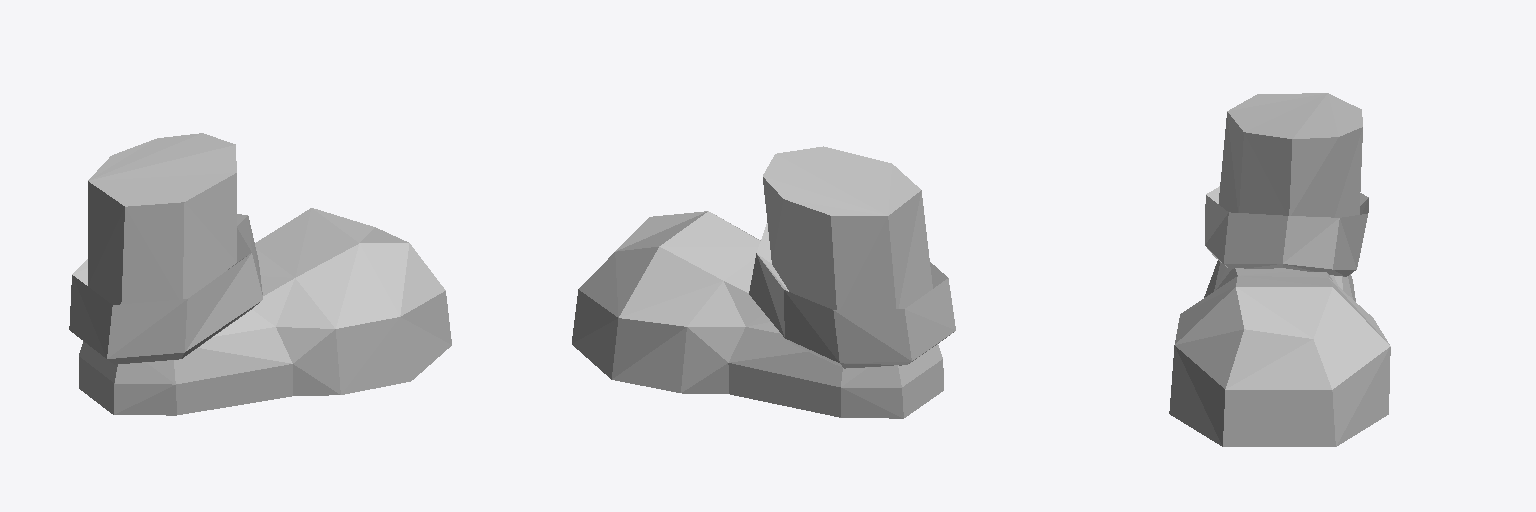
File: pie_der.obj
3 views of the same model, side by side, from view 1: azimuth 30°, elevation 25°; view 2: azimuth 150°, elevation 25°; view 3: azimuth 270°, elevation 25° (orthographic).
Visible parts, largest first — view 1: Material_#95.005; view 2: Material_#95.005; view 3: Material_#95.005.
Part boxes in pixels (x1,y1,x2,y2): Material_#95.005: (69,133,451,415); Material_#95.005: (572,146,955,418); Material_#95.005: (1169,93,1390,446).
Bounding box in the file's own units: 1.89 × 1.18 × 1.08.